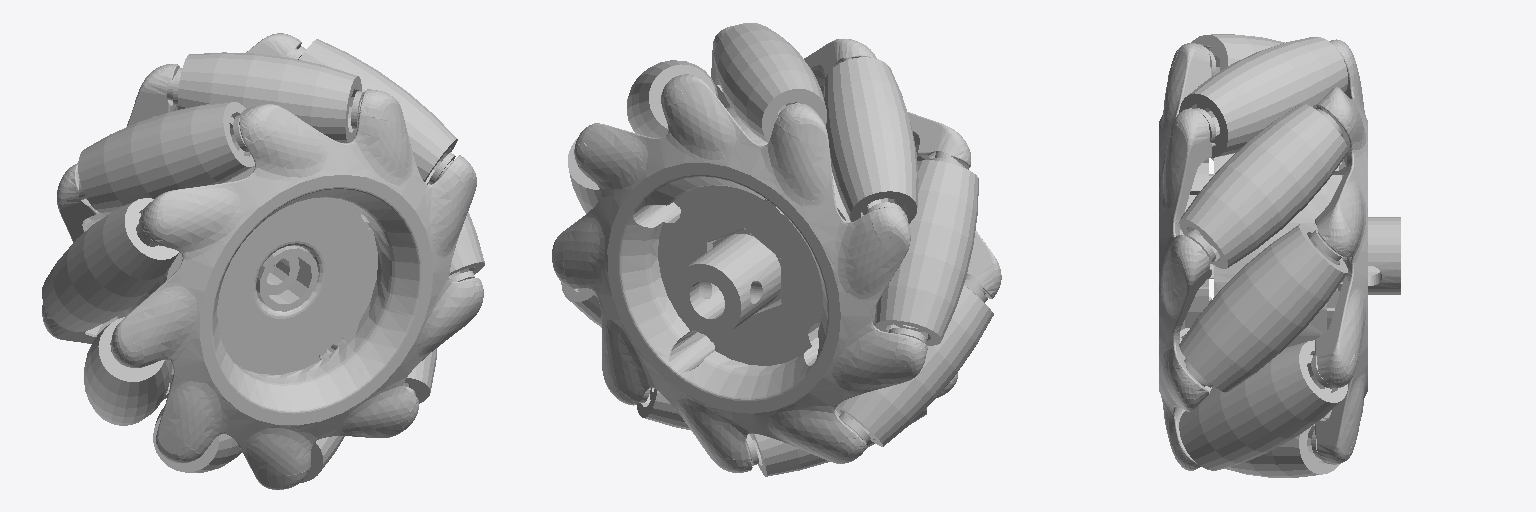
Rendered from front_right_wheel.obj.
3 views of the same model, side by side, from view 1: azimuth 30°, elevation 25°; view 2: azimuth 150°, elevation 25°; view 3: azimuth 270°, elevation 25° (orthographic).
Bounding box in the file's own units: 0.0646 × 0.0646 × 0.0352.